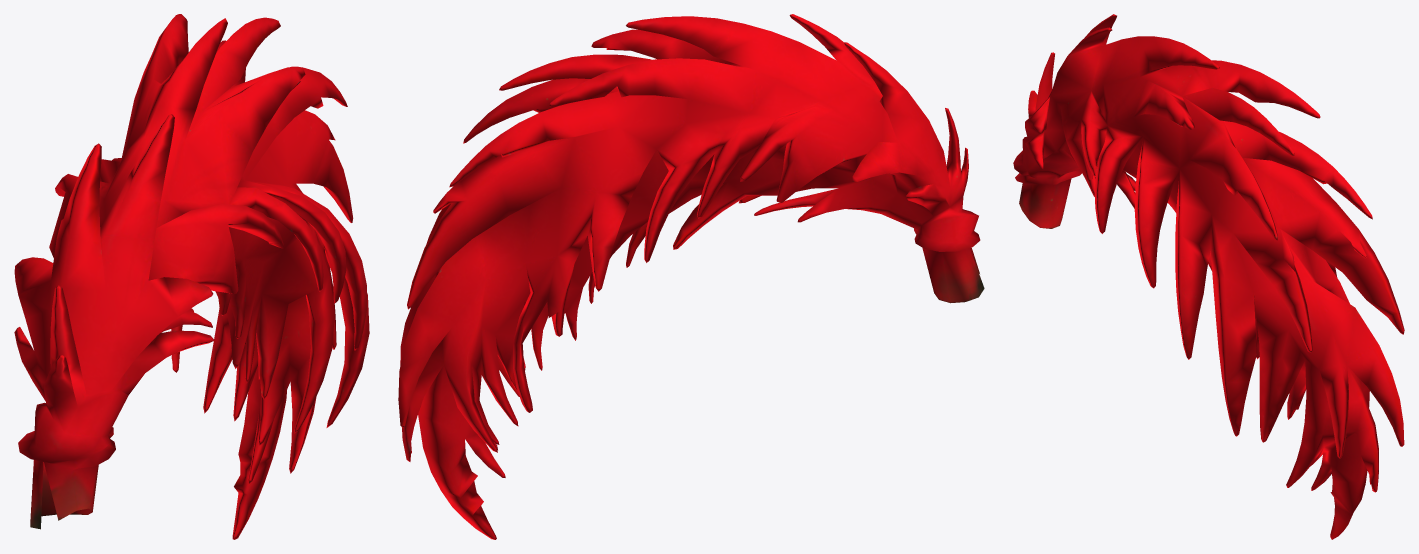
The model's file is feather_original.glb.
The picture shows the model from 3 angles, left to right: view 1: azimuth 30°, elevation 25°; view 2: azimuth 150°, elevation 25°; view 3: azimuth 270°, elevation 25°; orthographic projection. The views are drawn at different scales.
Visible parts, largest first — view 1: OriginalScarletFeather; view 2: OriginalScarletFeather; view 3: OriginalScarletFeather.
Boxes of the visible parts, x1,y1,x2,y2 form: OriginalScarletFeather: (14,14,369,539); OriginalScarletFeather: (398,14,984,539); OriginalScarletFeather: (1013,14,1404,539).
Size of the model in its own units: 0.4691 by 0.5316 by 0.423.
Materials: 1 (1 with a texture image).
